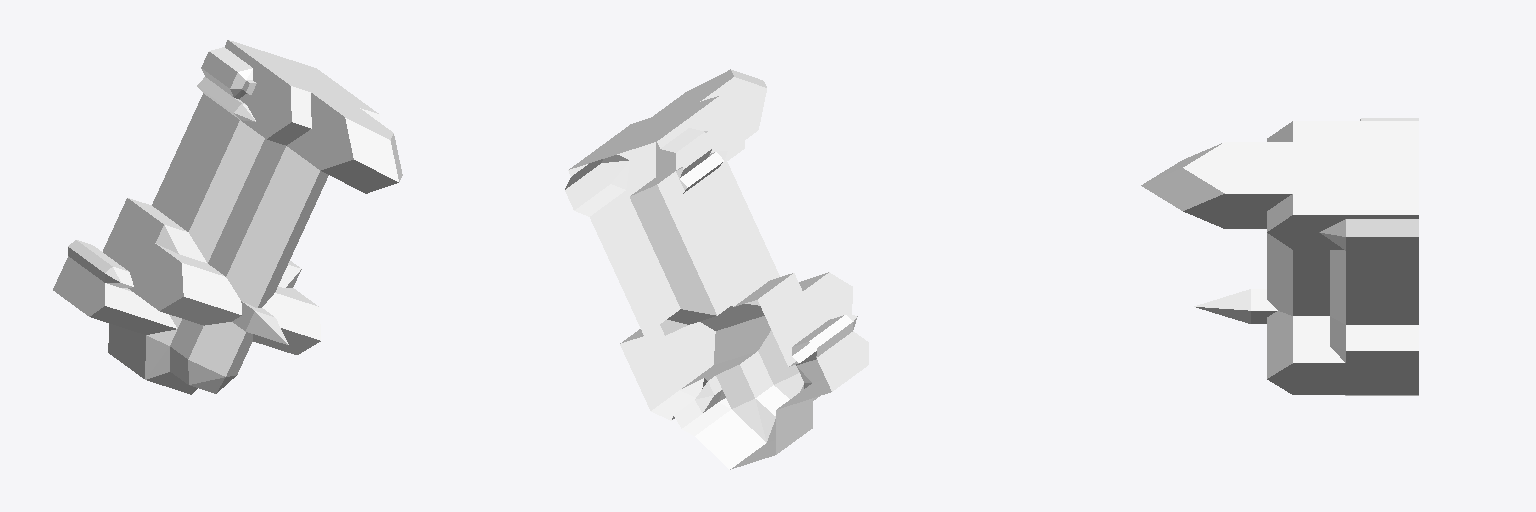
Rendered from DEU_596_KARLSRUHE_BONIFAT_L.OBJ.
3 renders of one model, left to right at view 1: azimuth 30°, elevation 25°; view 2: azimuth 150°, elevation 25°; view 3: azimuth 270°, elevation 25°, orthographic.
Parts seen in each view (by area): view 1: DEU_596_KARLSRUHE_BONIFAT_L; view 2: DEU_596_KARLSRUHE_BONIFAT_L; view 3: DEU_596_KARLSRUHE_BONIFAT_L.
Boxes of the visible parts, x1,y1,x2,y2 form: DEU_596_KARLSRUHE_BONIFAT_L: [53, 40, 402, 394]; DEU_596_KARLSRUHE_BONIFAT_L: [565, 69, 868, 469]; DEU_596_KARLSRUHE_BONIFAT_L: [1141, 118, 1418, 395].
Bounding box in the file's own units: 53.35 × 59.19 × 48.13.